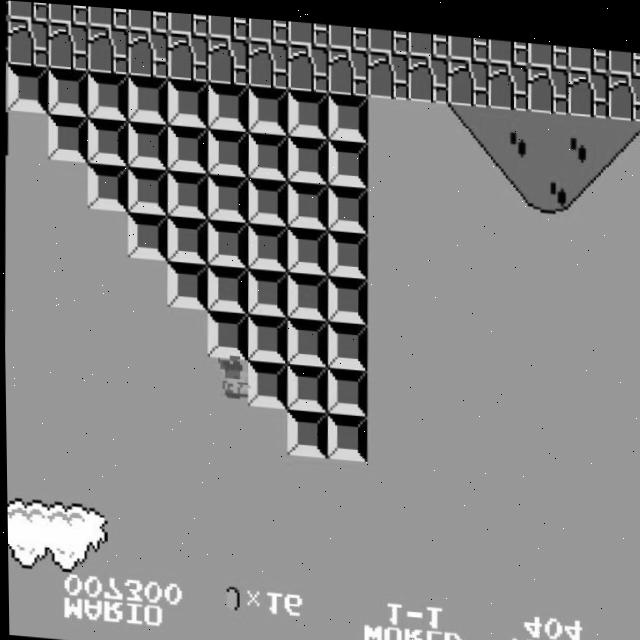11- little_mario: (210, 347, 254, 400)
14- pipe: (4, 64, 8, 110)
15- pipe_head: (4, 110, 7, 155)
17- undestructible_block: (7, 17, 49, 67), (47, 20, 89, 70), (127, 26, 169, 76), (167, 29, 209, 79), (247, 35, 289, 85), (287, 38, 329, 88), (367, 44, 409, 94), (487, 53, 529, 103), (567, 59, 609, 109), (87, 23, 129, 72), (207, 33, 249, 82), (327, 42, 369, 91), (407, 48, 449, 97), (447, 51, 489, 100), (527, 57, 569, 106), (607, 62, 640, 111), (408, 25, 449, 52), (528, 34, 569, 61), (328, 19, 369, 45), (368, 22, 409, 48), (448, 28, 489, 54), (488, 31, 529, 57), (568, 37, 609, 63), (247, 14, 288, 39), (287, 17, 328, 42), (207, 12, 248, 36), (127, 7, 168, 30), (167, 10, 208, 33), (87, 5, 128, 27), (7, 0, 48, 21), (47, 3, 88, 24), (608, 40, 640, 66), (5, 18, 8, 64), (5, 0, 7, 17)
9- hard_block: (6, 63, 49, 113), (46, 66, 89, 116), (125, 209, 168, 259), (126, 72, 169, 122), (166, 75, 209, 125), (205, 215, 248, 265), (206, 78, 249, 128), (245, 218, 288, 268), (246, 81, 289, 131), (286, 84, 329, 134), (324, 361, 367, 411), (325, 224, 368, 274), (326, 87, 369, 137), (86, 69, 129, 118), (165, 258, 208, 307), (165, 212, 208, 261), (244, 355, 287, 404), (284, 358, 327, 407), (285, 267, 328, 316), (285, 221, 328, 270), (325, 316, 368, 365), (86, 114, 128, 164), (285, 312, 327, 362), (205, 262, 248, 310), (245, 265, 288, 313), (325, 271, 368, 319), (46, 112, 88, 161), (126, 164, 168, 213), (126, 118, 168, 167), (166, 121, 208, 170), (205, 307, 247, 356), (206, 170, 248, 219), (206, 124, 248, 173), (245, 310, 287, 359), (246, 173, 288, 222), (246, 127, 288, 176), (285, 404, 327, 453), (286, 130, 328, 179), (326, 179, 368, 228), (326, 133, 368, 182), (86, 161, 128, 209), (166, 167, 208, 215), (286, 176, 328, 224), (325, 408, 367, 456)
